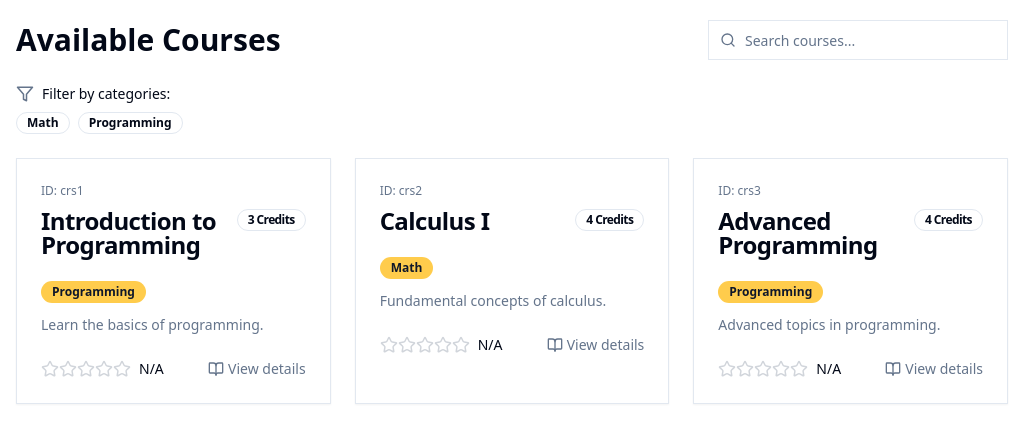
Test: CourseList Page › when courses are fetched successfully › clears filters when "Clear Filters" button is clicked
The width and height of the screenshot is (1024, 421).
Check: the text "Introduction to Programming" is shown, box left=41, top=209, right=229, bottom=257
In the field with placeholder "Search courses...": (858, 40) left=708, top=20, right=1008, bottom=60, type "Calculus"
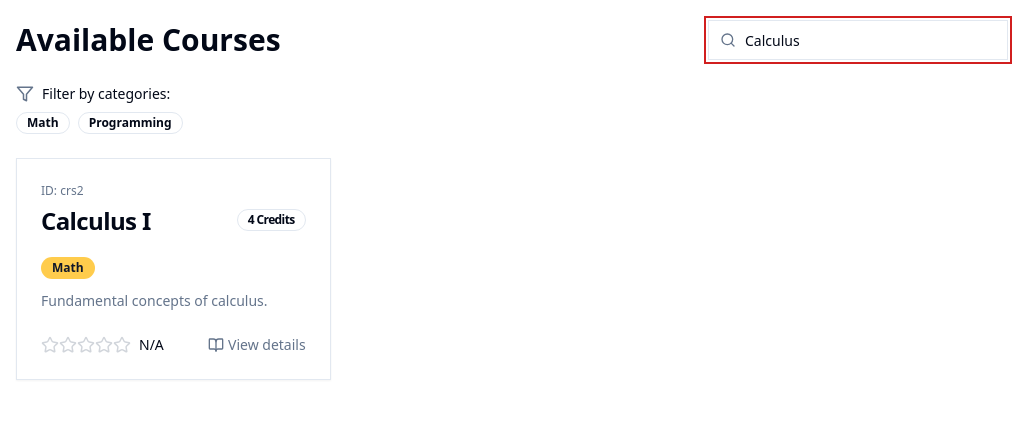
Click the text "Programming": (130, 123) left=78, top=112, right=183, bottom=134
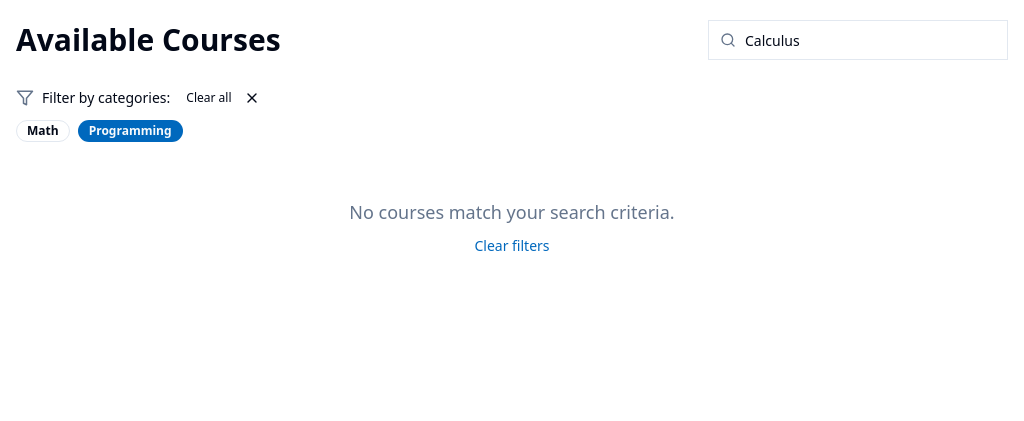
Check: the link "Calculus I" is gone
Click the button "Clear filters": (512, 246) left=458, top=226, right=566, bottom=266
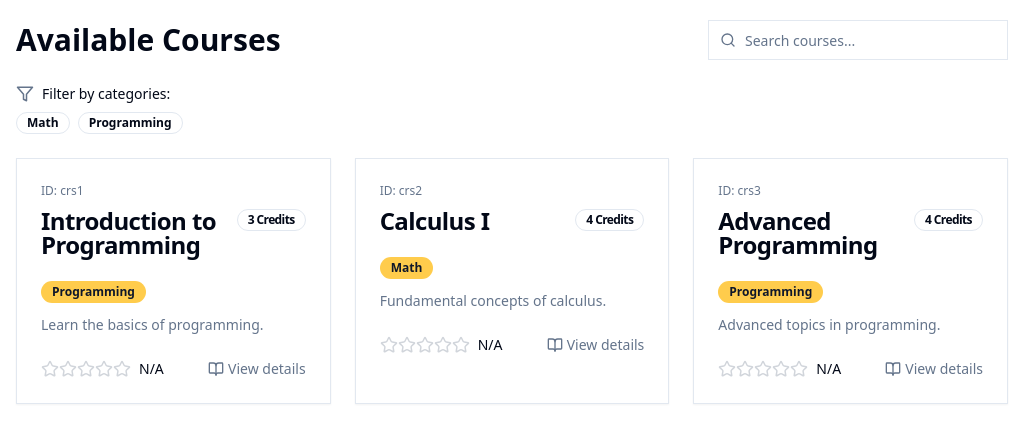
Check: the text "Introduction to Programming" is shown, box left=41, top=209, right=229, bottom=257
Check: the text "Calculus I" is shown, box left=380, top=209, right=490, bottom=233
Check: the text "Advanced Programming" is shown, box left=718, top=204, right=878, bottom=261
